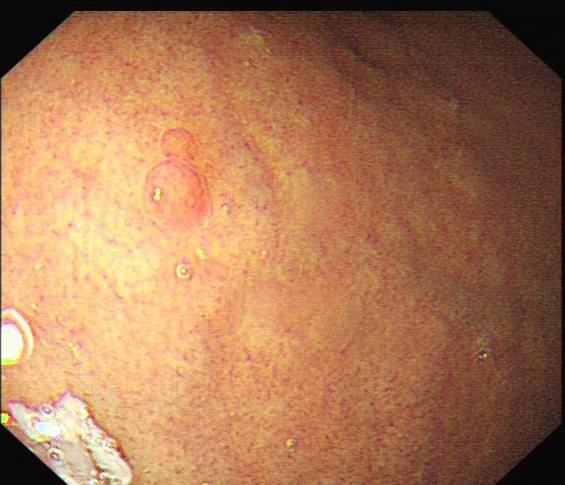Polyp: (138, 122, 212, 234)
